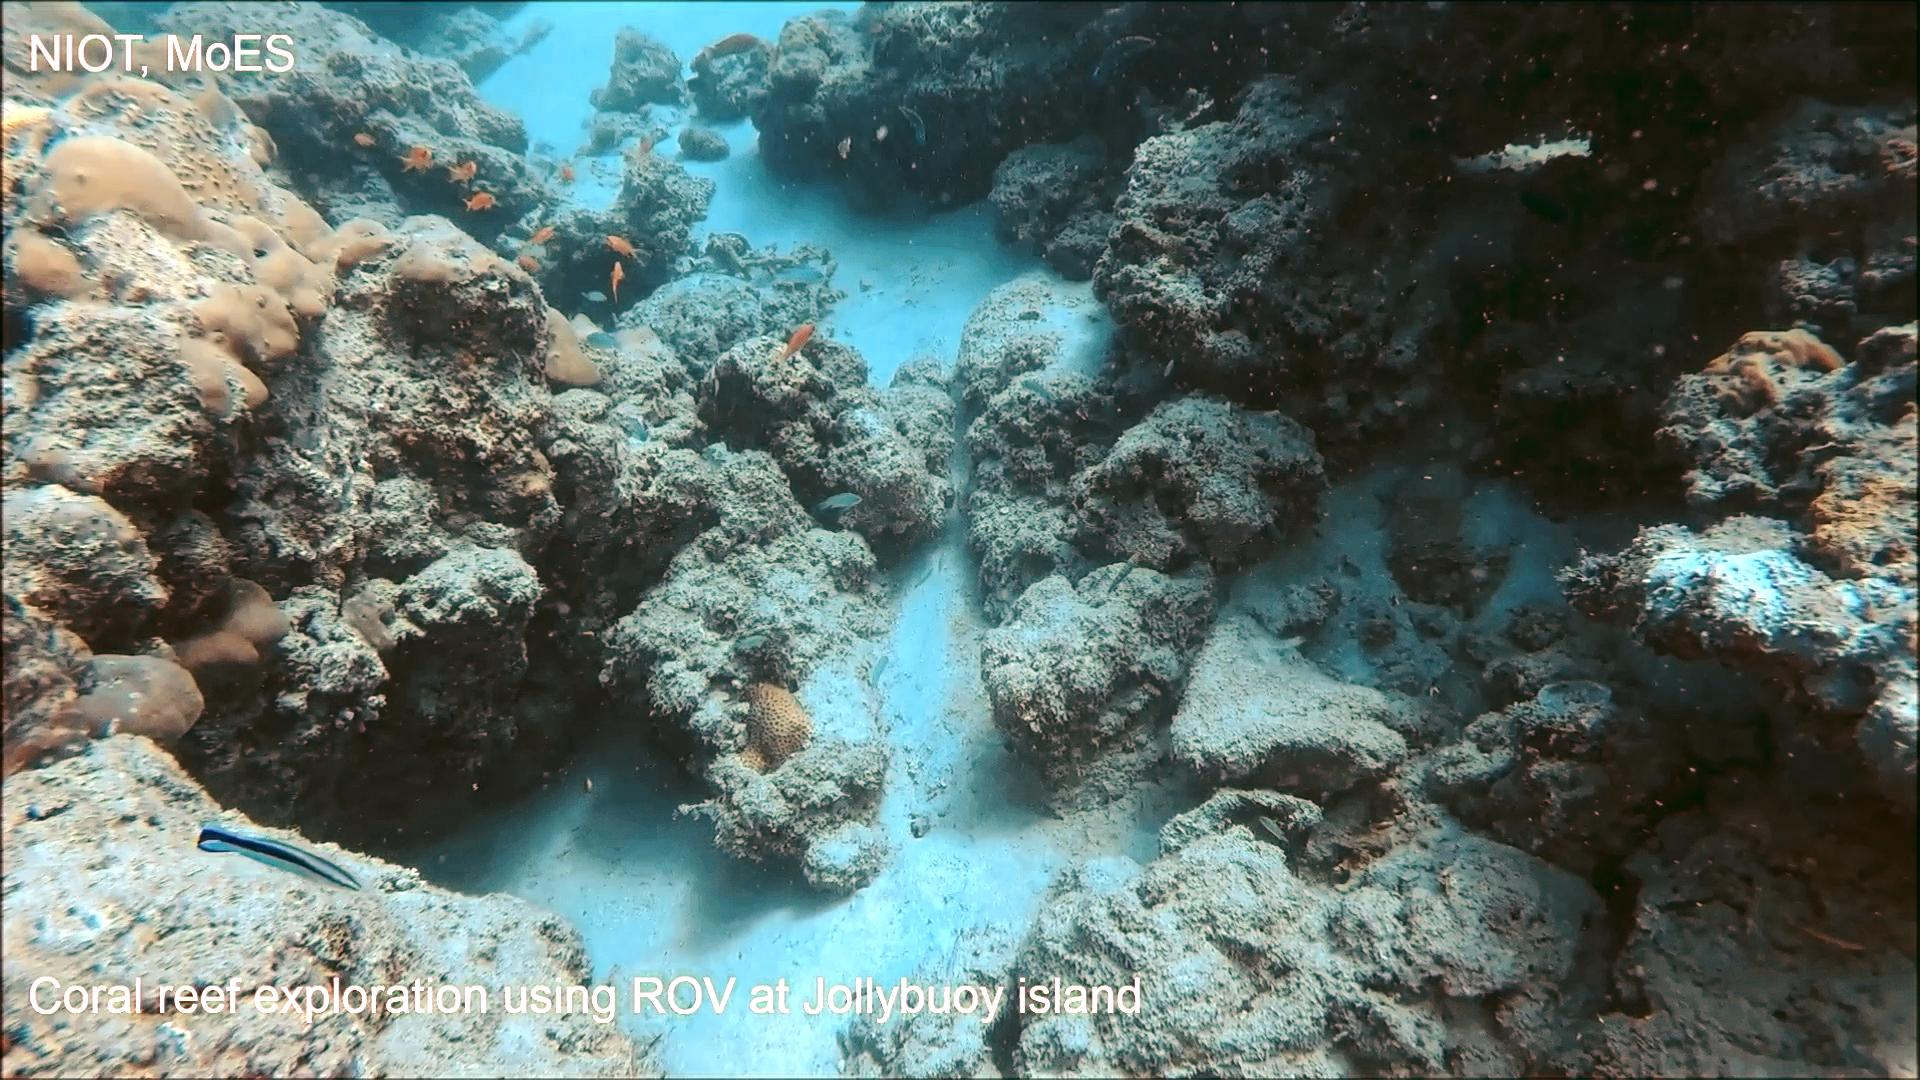Porites-Porites pukoensis: (3, 0, 407, 435)
